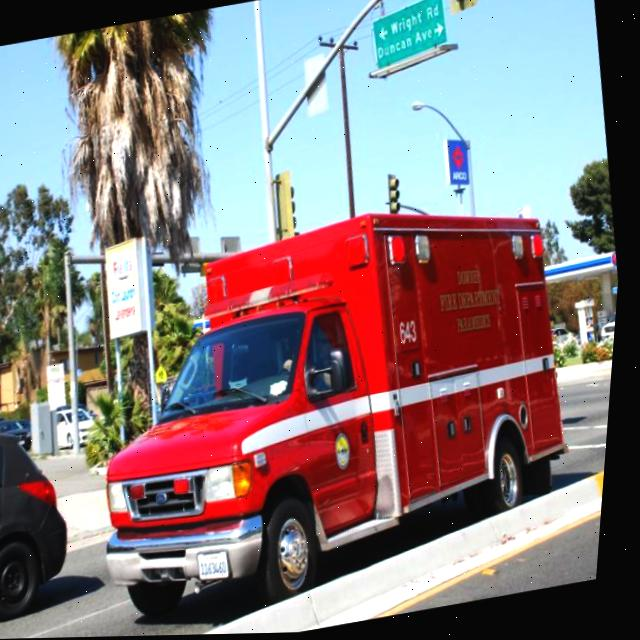emergency: (65, 195, 433, 638)
